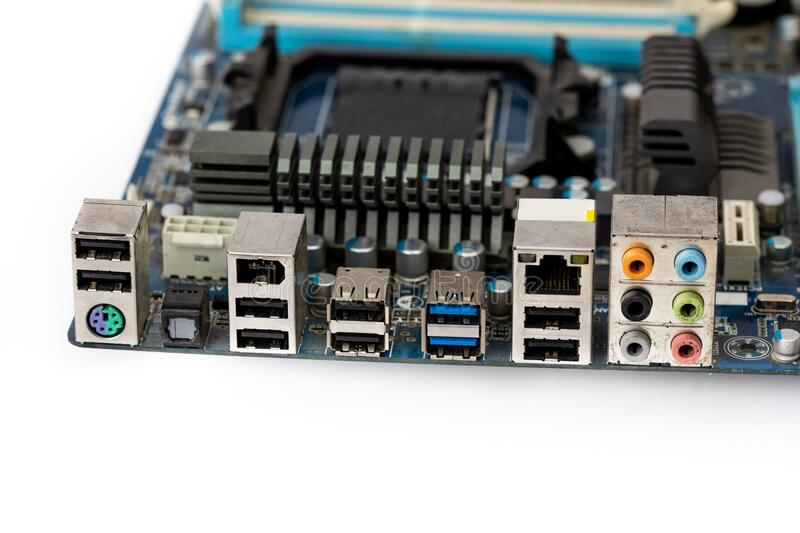Ethernet: (513, 245, 591, 299)
USB: (518, 335, 591, 367), (517, 305, 589, 334)
